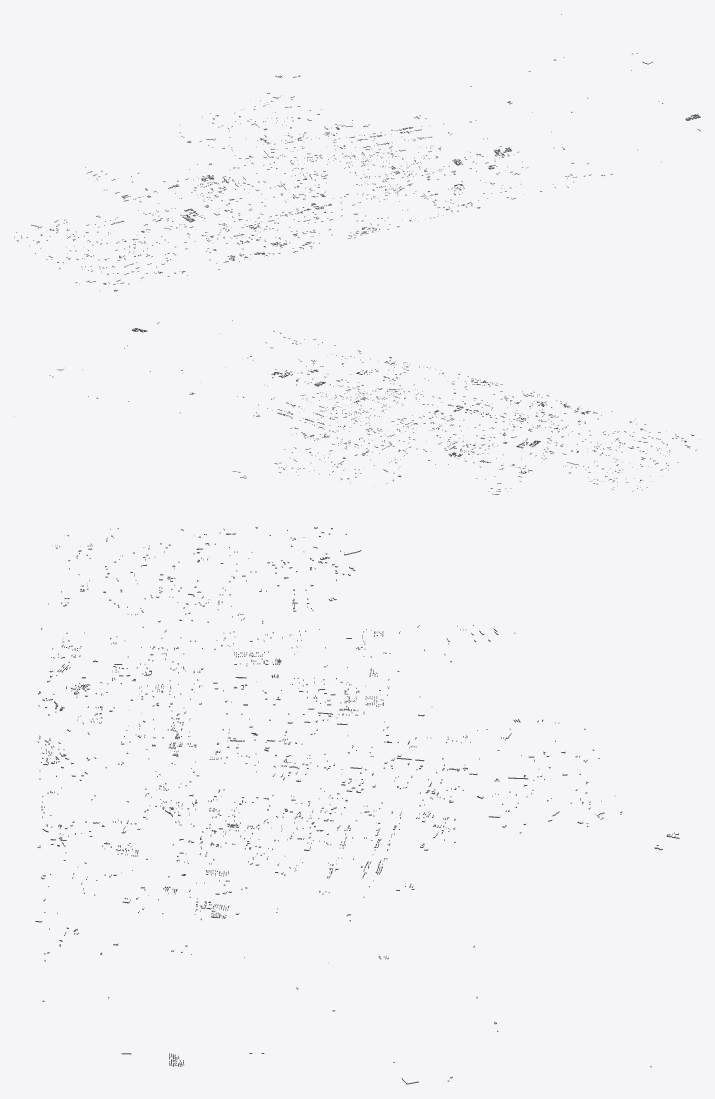
Rendered from NoLod_75.glb.
The picture shows the model from 3 angles, top to bottom: view 1: azimuth 30°, elevation 25°; view 2: azimuth 150°, elevation 25°; view 3: azimuth 270°, elevation 25°; orthographic projection. The views are drawn at different scales.
Parts seen in each view (by area): view 1: rtc; view 2: rtc; view 3: rtc.
Part boxes in pixels (left/top/right/bottom): rtc: left=14, top=14, right=700, bottom=291; rtc: left=14, top=320, right=700, bottom=494; rtc: left=35, top=527, right=679, bottom=1084.
Bounding box in the file's own units: 20218 × 102 × 9938.
1 material, 1 textured.
